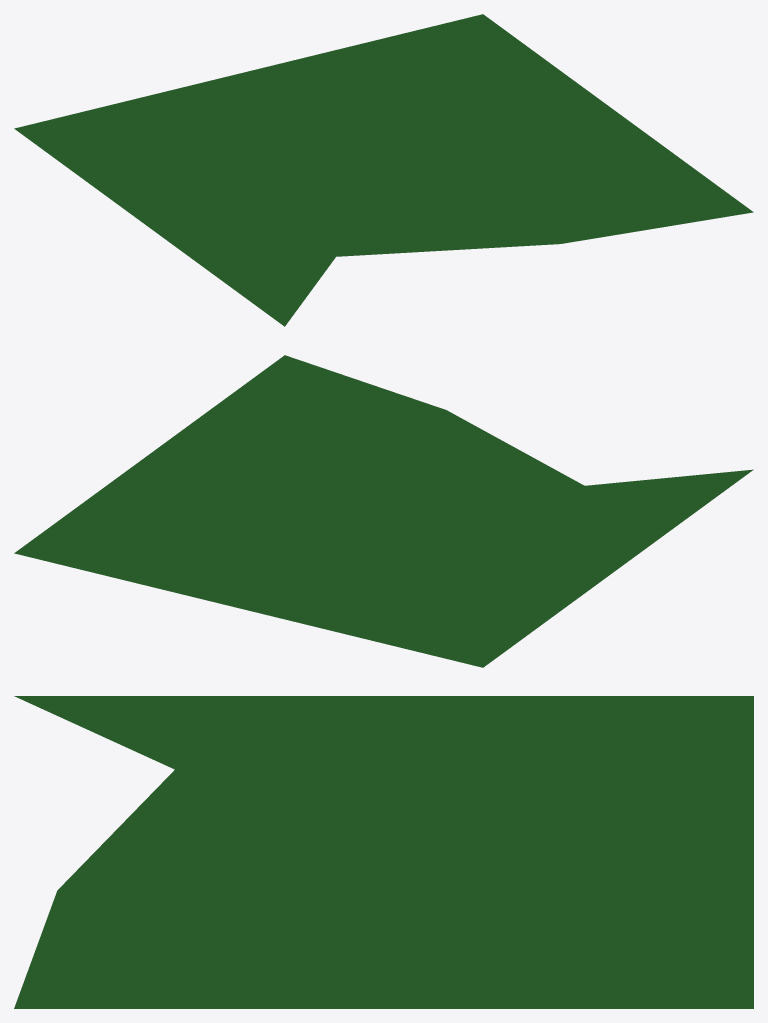
The model's file is Ground_003.FBX.
3 views of the same model, one above another, from view 1: azimuth 30°, elevation 25°; view 2: azimuth 150°, elevation 25°; view 3: azimuth 270°, elevation 25° (orthographic). The views are drawn at different scales.
Parts seen in each view (by area): view 1: Ground_003; view 2: Ground_003; view 3: Ground_003.
Boxes of the visible parts, x1=… form: Ground_003: x1=14, y1=14, x2=753, y2=326; Ground_003: x1=14, y1=355, x2=753, y2=667; Ground_003: x1=14, y1=696, x2=753, y2=1008.
Size of the model in its own units: 78.74 by 1.03e-05 by 78.74.
